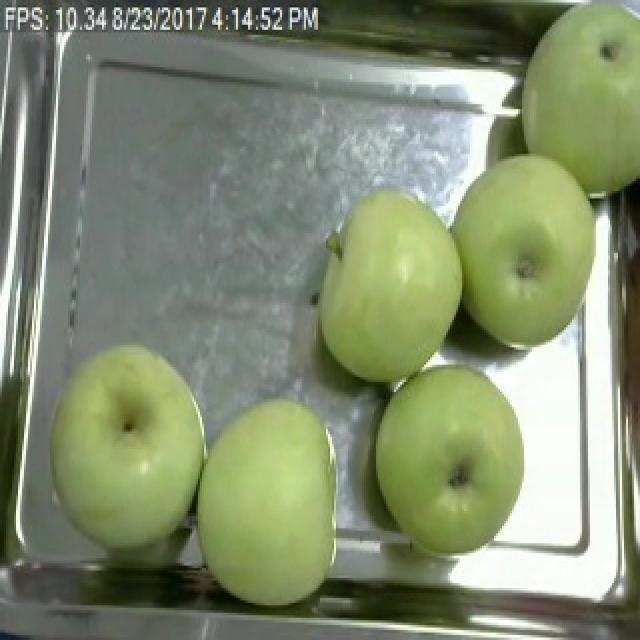50-_ripeness: (17, 288, 194, 566), (193, 400, 361, 612), (446, 148, 601, 360), (298, 180, 462, 380), (384, 368, 534, 578), (530, 4, 640, 192)
